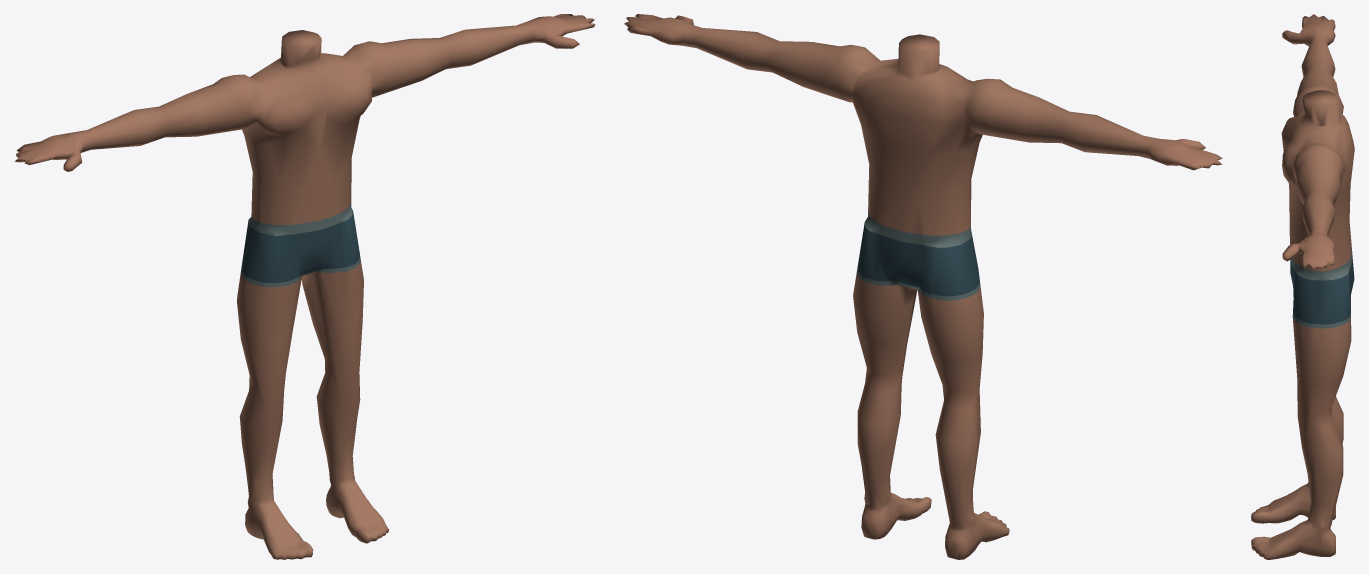
The model's file is body_male_tpose.glb.
3 renders of one model, left to right at view 1: azimuth 30°, elevation 25°; view 2: azimuth 150°, elevation 25°; view 3: azimuth 270°, elevation 25°, orthographic. The views are drawn at different scales.
Parts seen in each view (by area): view 1: Body_Male_TPose; view 2: Body_Male_TPose; view 3: Body_Male_TPose.
Part boxes in pixels (bbox=[...]): Body_Male_TPose: bbox=[14, 14, 595, 559]; Body_Male_TPose: bbox=[624, 14, 1222, 559]; Body_Male_TPose: bbox=[1251, 14, 1354, 559].
Size of the model in its own units: 1.94 by 1.56 by 0.3339.
